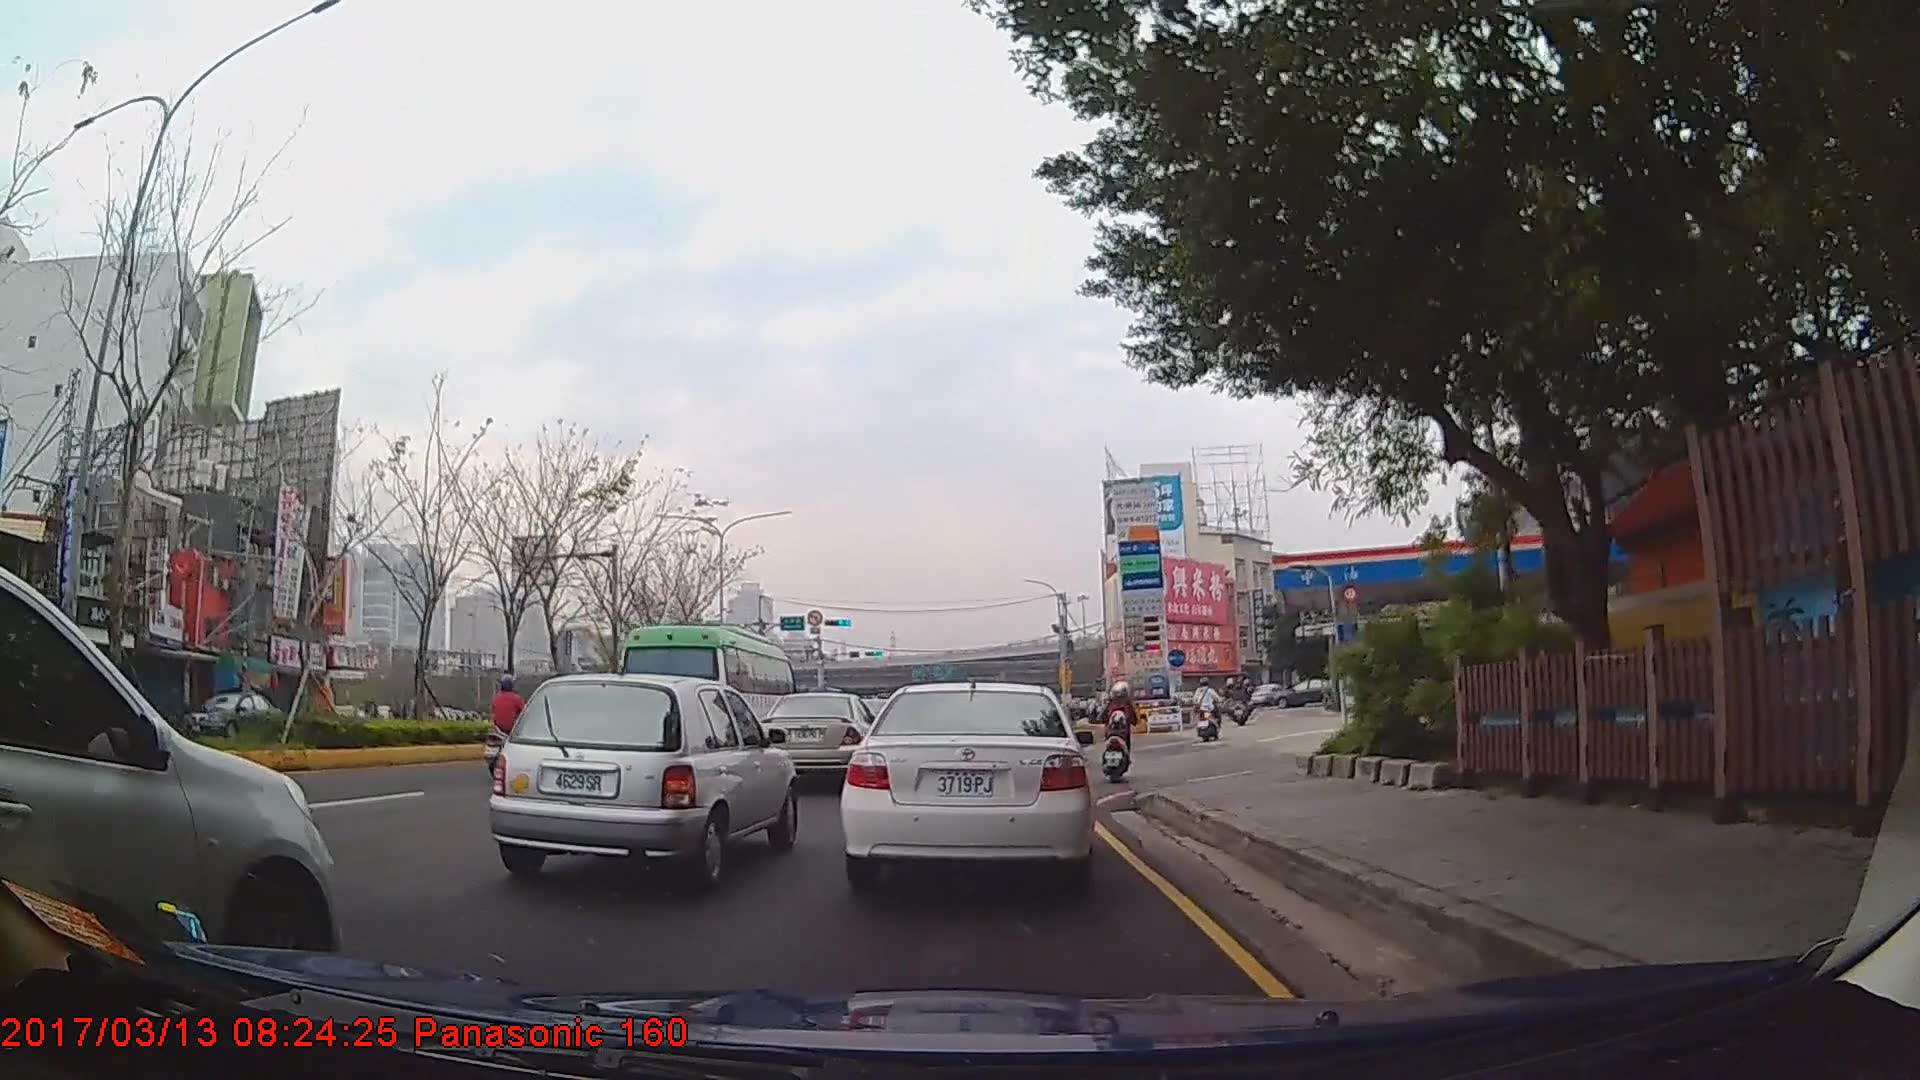rider: (491, 673, 530, 783), (1102, 680, 1138, 777), (1192, 675, 1221, 742), (1231, 675, 1251, 724)
vehicle: (0, 565, 337, 996), (490, 668, 800, 885), (841, 678, 1094, 890), (612, 620, 796, 773), (756, 692, 881, 785), (177, 687, 286, 743), (1270, 675, 1340, 705)
